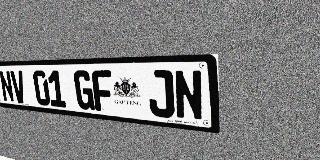0: (32, 70, 51, 106)
1: (46, 70, 66, 108)
F: (91, 70, 114, 112)
G: (73, 70, 95, 110)
J: (147, 70, 175, 118)
N: (173, 70, 204, 121), (0, 71, 15, 102)
V: (10, 70, 27, 104)
